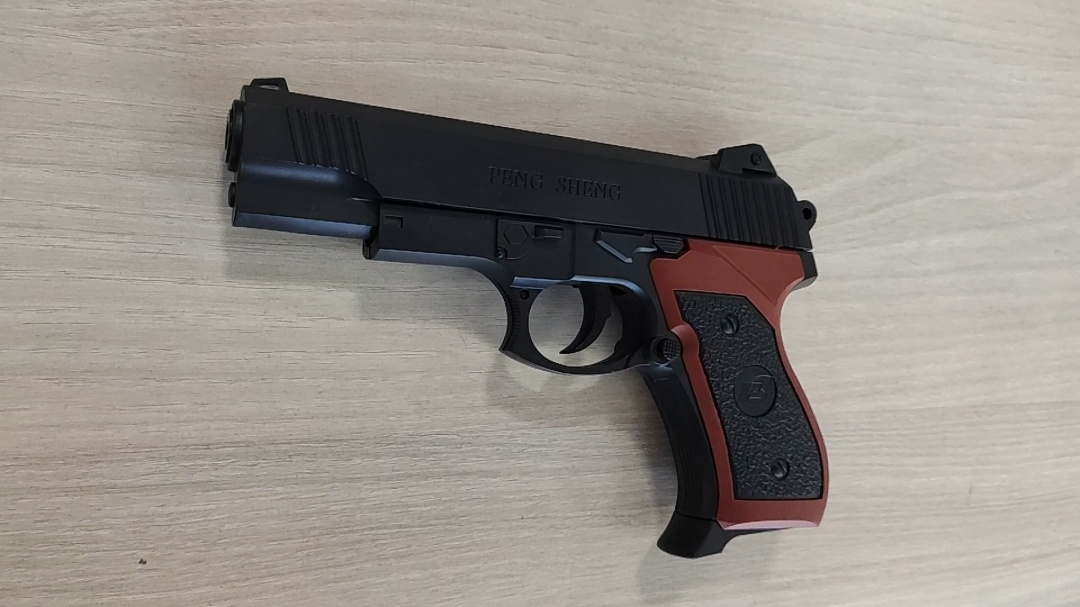gun: (402, 262, 457, 376)
